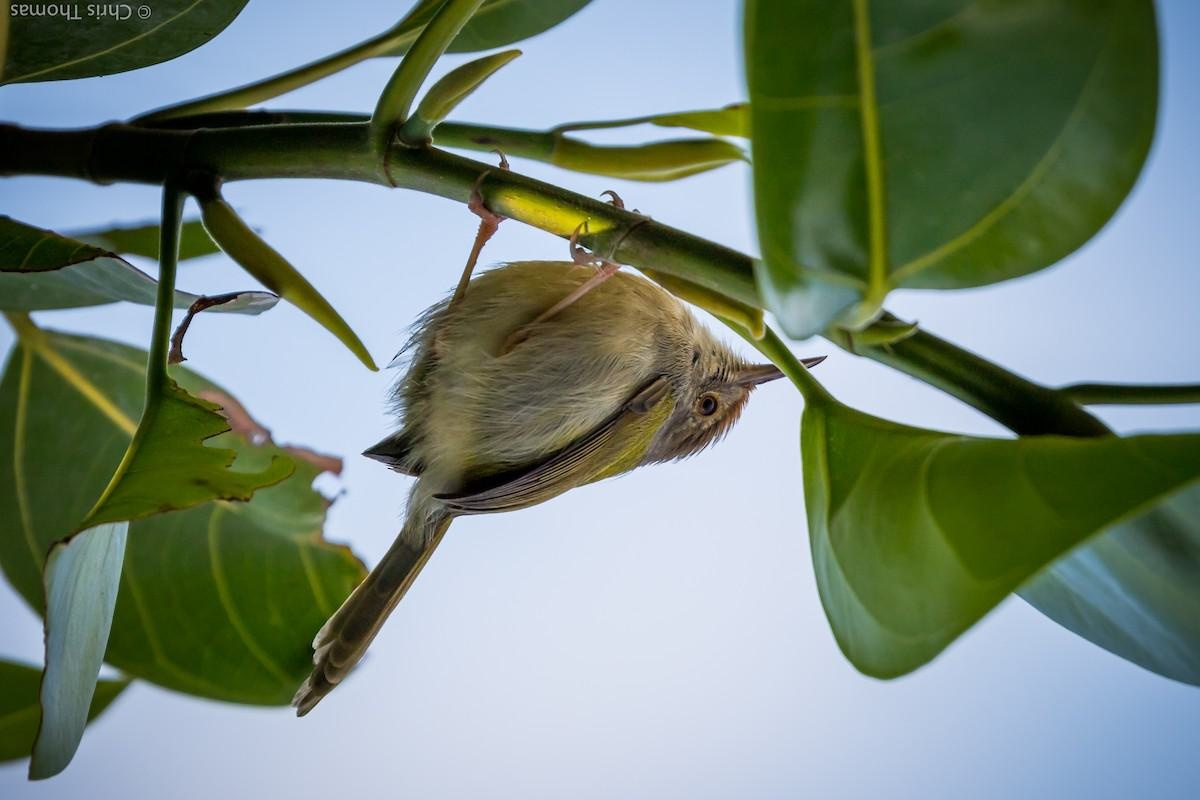tailorbird: (324, 140, 826, 681)
